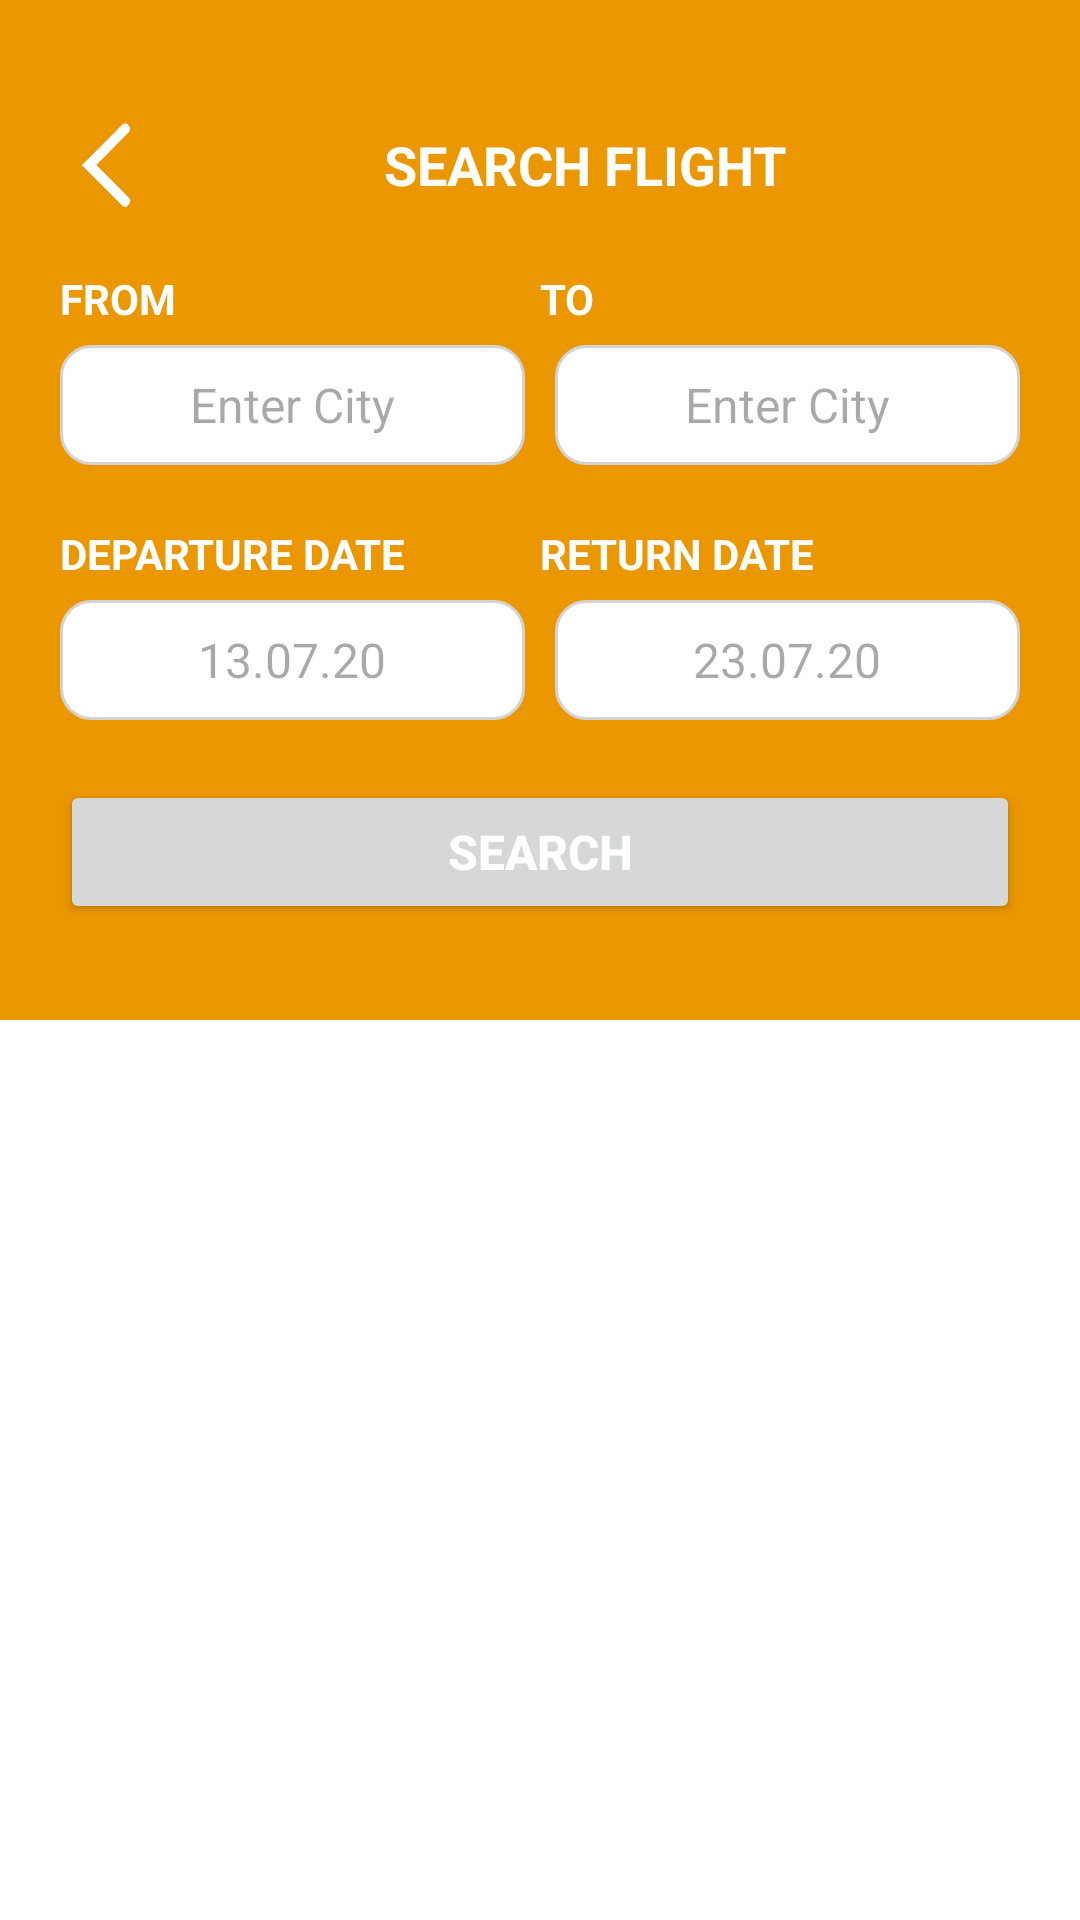

Icons on this 1080px×1920px Android screen, each with the point to tap as [x,y]:
back: [106,165]
